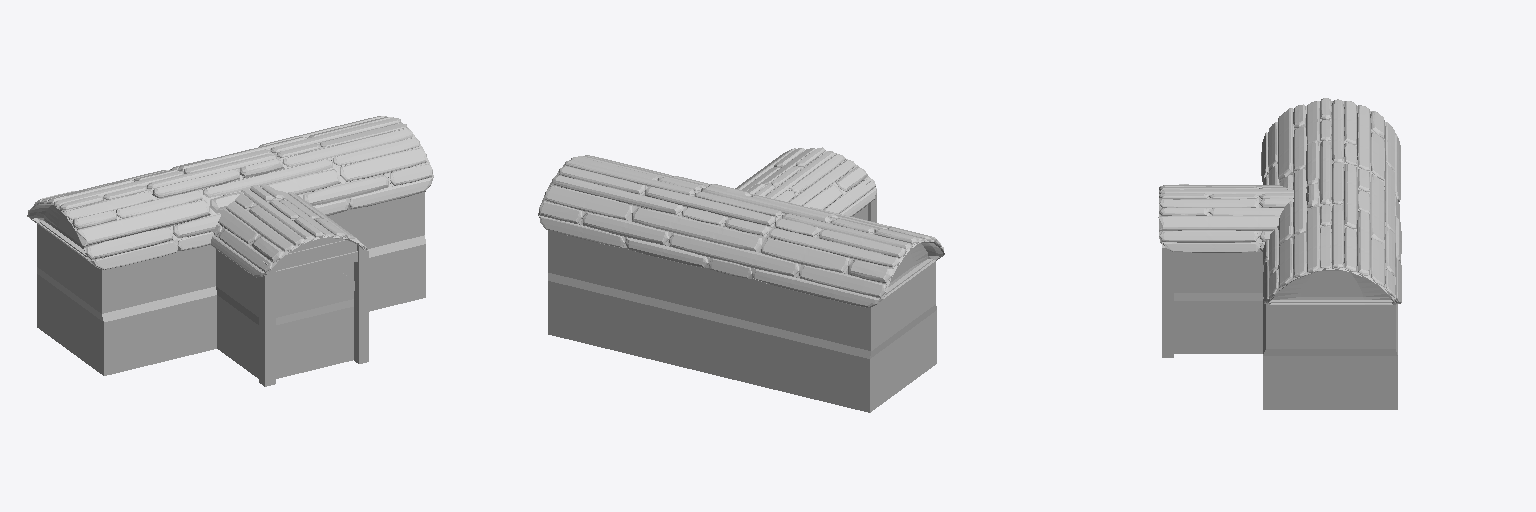
The model's file is recruitment.obj.
3 views of the same model, side by side, from view 1: azimuth 30°, elevation 25°; view 2: azimuth 150°, elevation 25°; view 3: azimuth 270°, elevation 25° (orthographic).
Visible parts, largest first — view 1: Cube_Cube.001, Cube.001_Cube.002, Cube.002_Cube.003, Cube.011; view 2: Cube_Cube.001, Cube.001_Cube.002, Cube.002_Cube.003; view 3: Cube.001_Cube.002, Cube_Cube.001, Cube.002_Cube.003, Cube.011.
Part boxes in pixels (bbox=[...]): Cube_Cube.001: bbox=[37, 192, 425, 378]; Cube.001_Cube.002: bbox=[27, 116, 433, 269]; Cube.002_Cube.003: bbox=[210, 184, 367, 277]; Cube.011: bbox=[259, 238, 368, 386]; Cube_Cube.001: bbox=[548, 205, 936, 412]; Cube.001_Cube.002: bbox=[538, 155, 944, 307]; Cube.002_Cube.003: bbox=[735, 147, 876, 216]; Cube.001_Cube.002: bbox=[1261, 98, 1401, 304]; Cube_Cube.001: bbox=[1174, 251, 1397, 409]; Cube.002_Cube.003: bbox=[1158, 184, 1293, 252]; Cube.011: bbox=[1162, 242, 1173, 357].
Bounding box in the file's own units: 7.51 × 3.13 × 4.56.